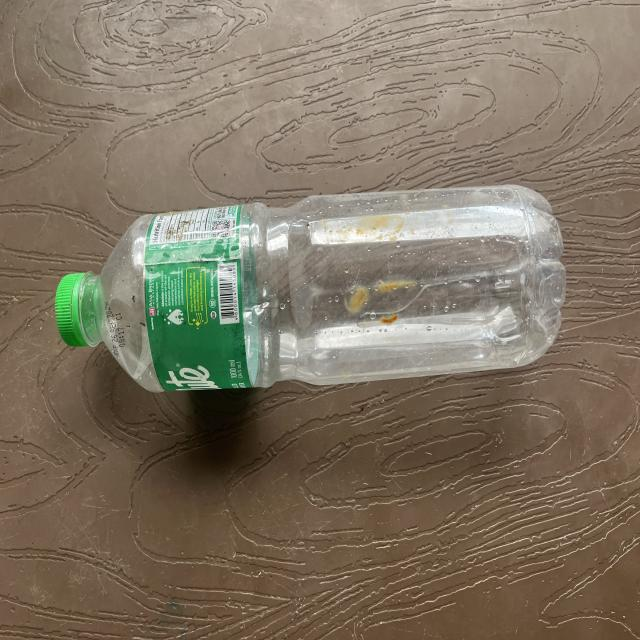REJECT: (85, 181, 568, 406)
